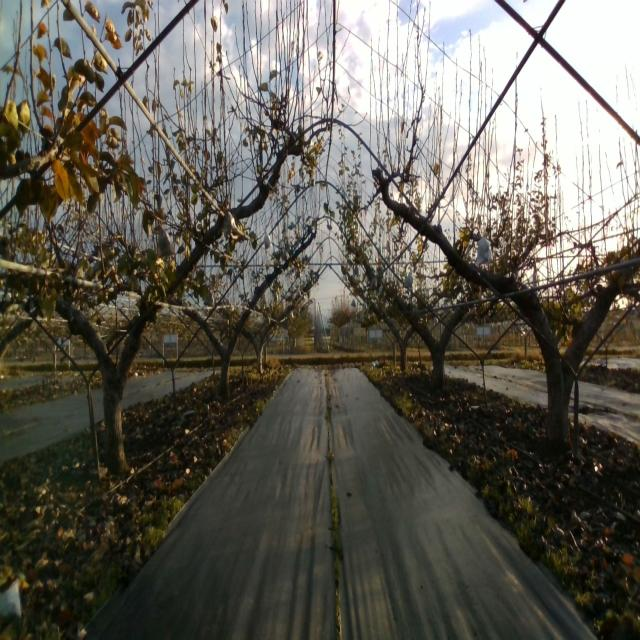pearbags: (476, 234, 493, 266), (223, 210, 238, 238)
